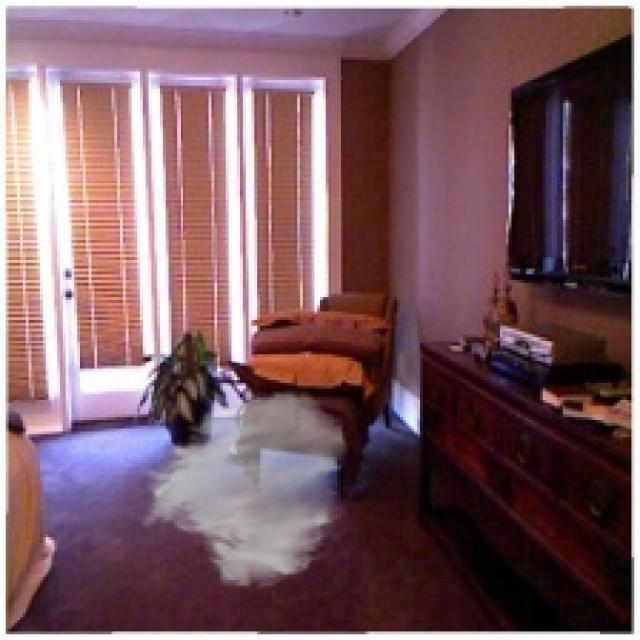Smoke: (137, 388, 352, 592)
